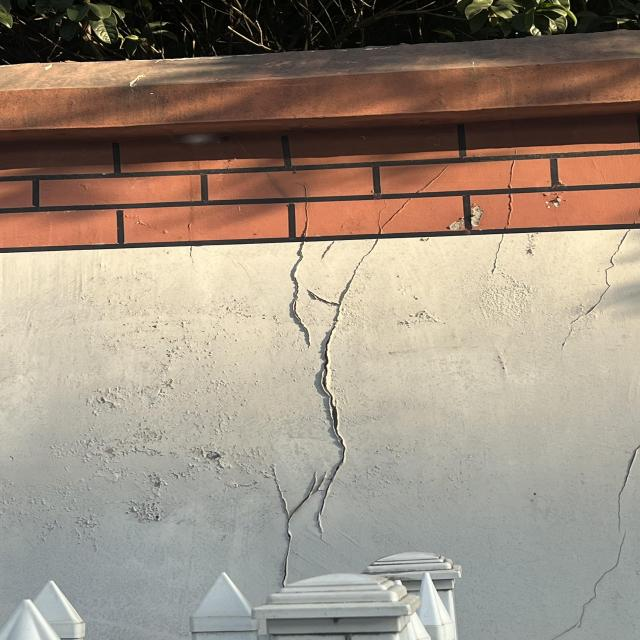crack: (281, 187, 376, 540), (562, 450, 638, 639), (564, 228, 634, 332), (495, 151, 524, 275)
